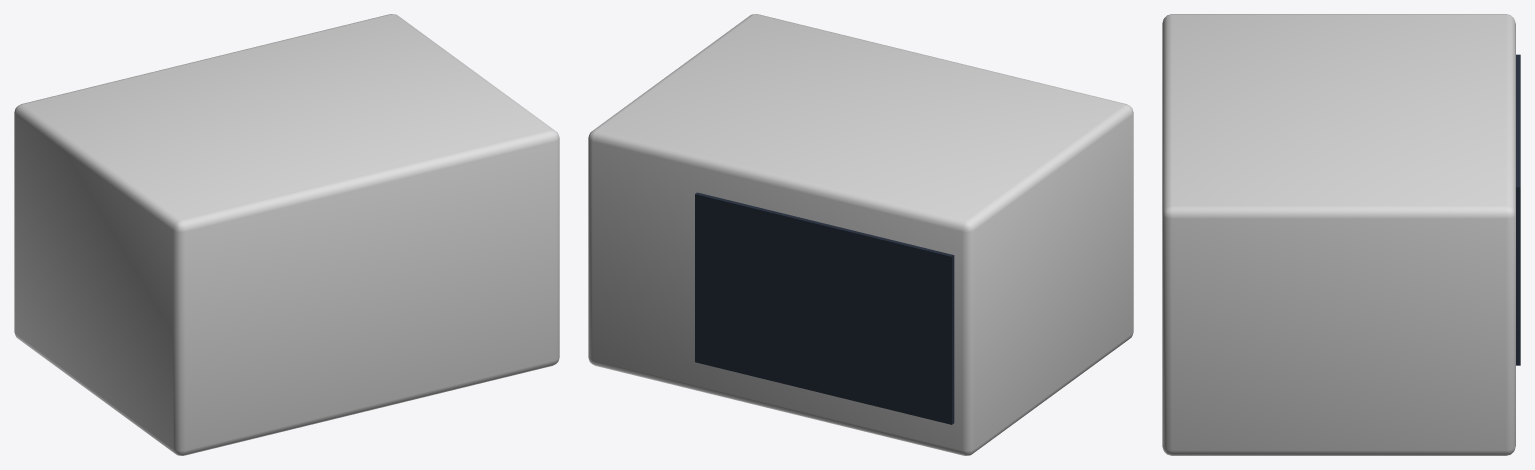
The model's file is furniture.appliance.microwave.glb.
3 renders of one model, left to right at view 1: azimuth 30°, elevation 25°; view 2: azimuth 150°, elevation 25°; view 3: azimuth 270°, elevation 25°, orthographic. The views are drawn at different scales.
Visible parts, largest first — view 1: main__steel_stainless; view 2: main__steel_stainless, main__screen; view 3: main__steel_stainless, main__screen.
Boxes of the visible parts, bbox=[...] form: main__steel_stainless: bbox=[14, 14, 559, 455]; main__steel_stainless: bbox=[588, 14, 1133, 455]; main__screen: bbox=[695, 192, 954, 424]; main__steel_stainless: bbox=[1162, 14, 1515, 455]; main__screen: bbox=[1516, 54, 1520, 365].
Size of the model in its own units: 0.48 by 0.28 by 0.365.
